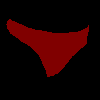mutande: (6, 18, 89, 77)
